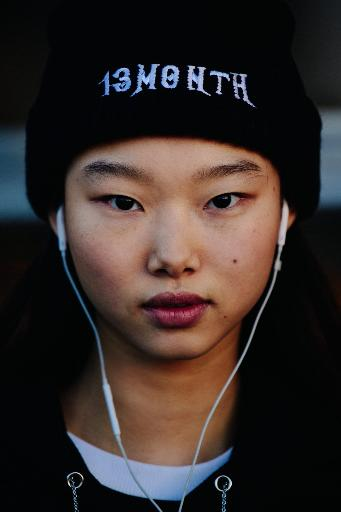left_eye: (202, 187, 257, 219)
left_lip_corner: (204, 295, 219, 314)
right_eye: (88, 190, 146, 220)
right_lip_corner: (136, 299, 150, 319)
